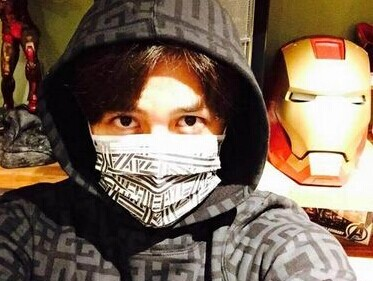mask: (80, 84, 249, 237)
